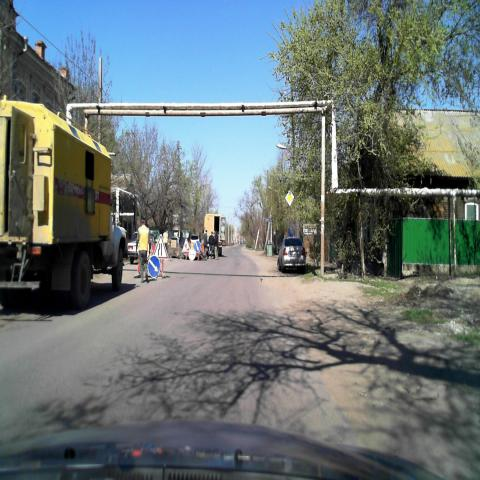1_20_3: (152, 234, 168, 259)
